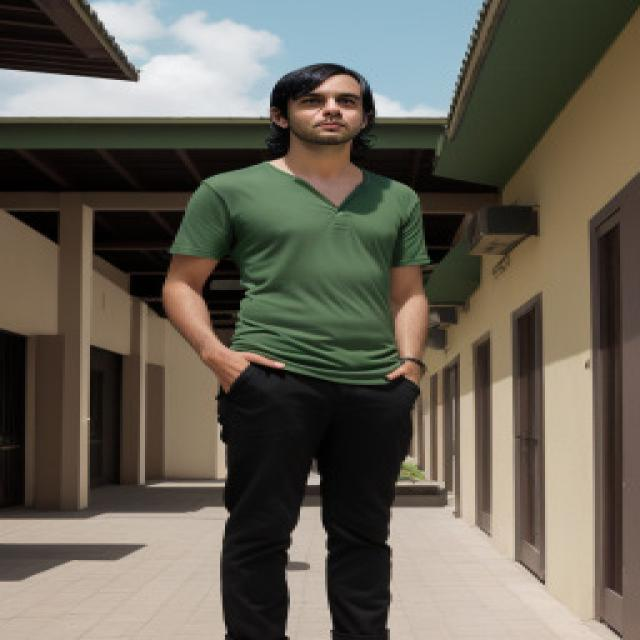Ai human 2: (155, 50, 463, 640)
